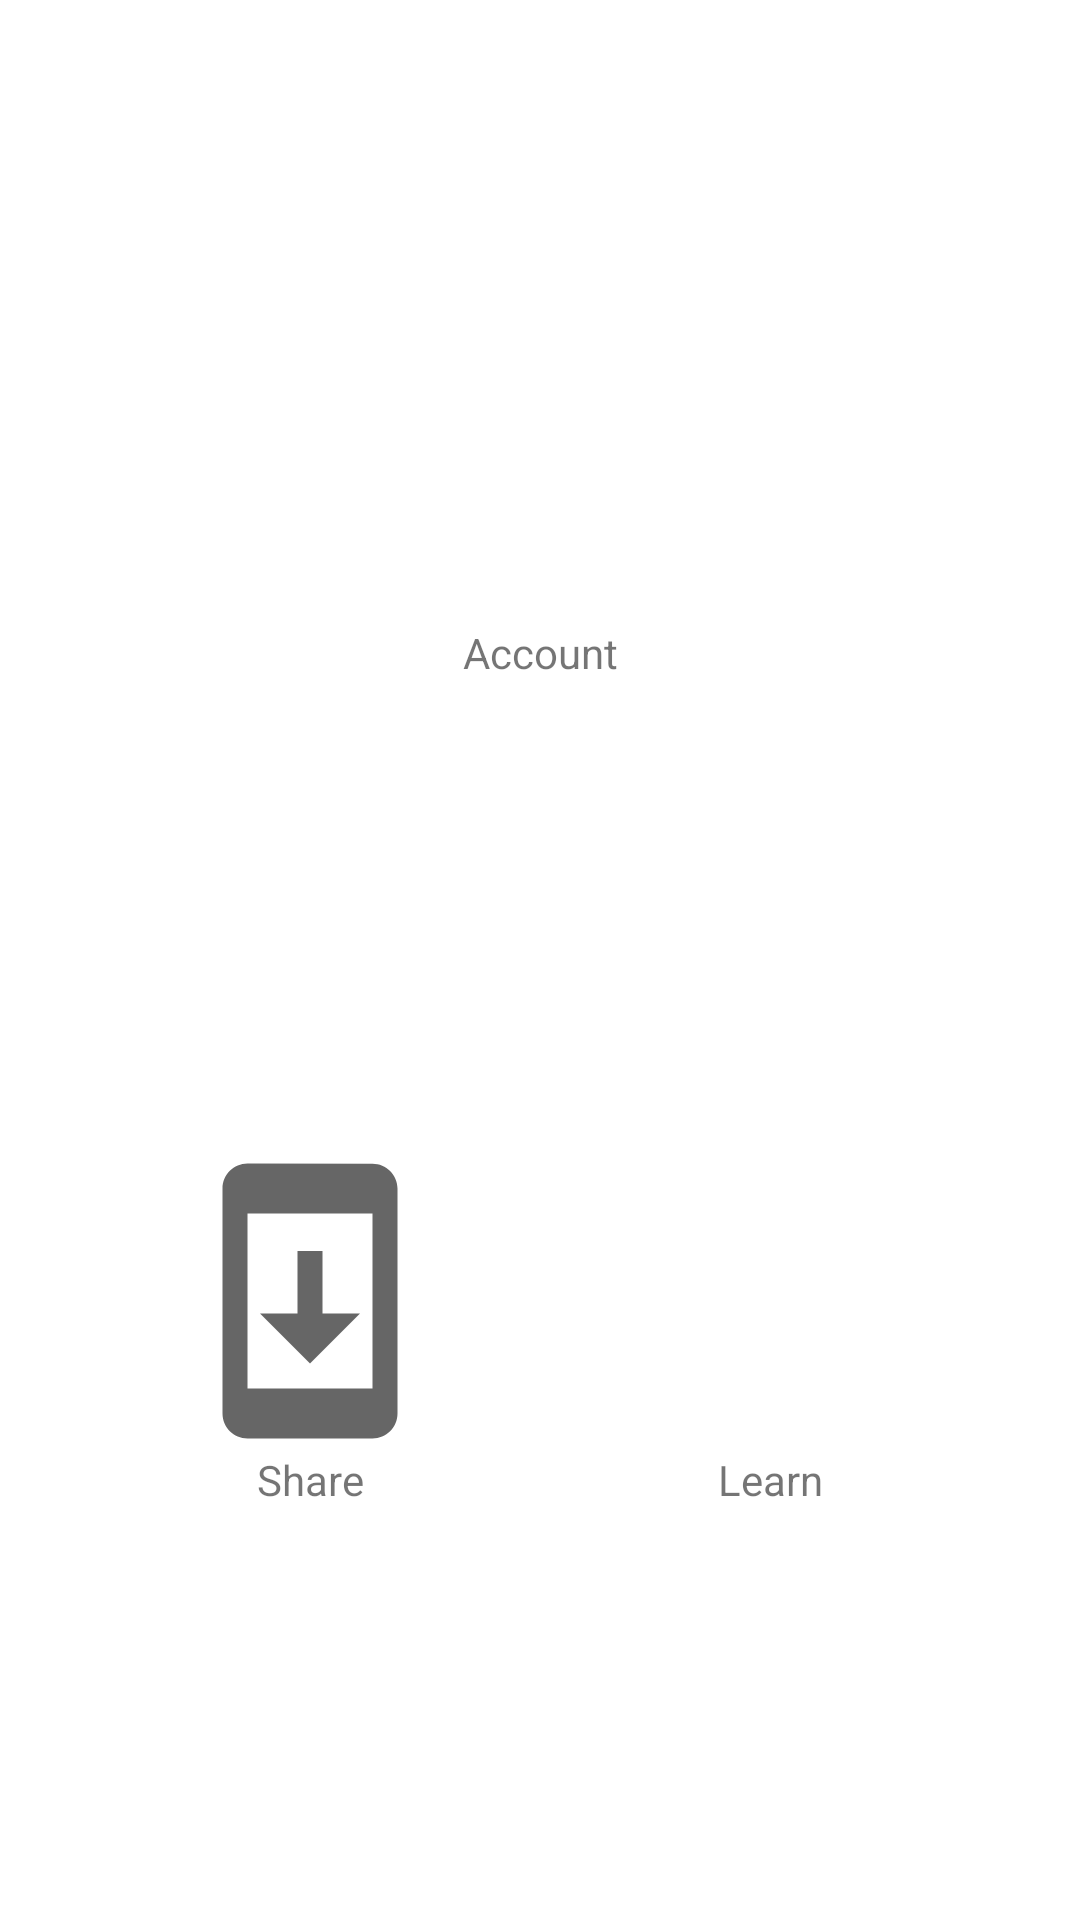

Icon click points for this 1080×1920 phone screenshot, format [x,y]:
system update: [310,1301]
